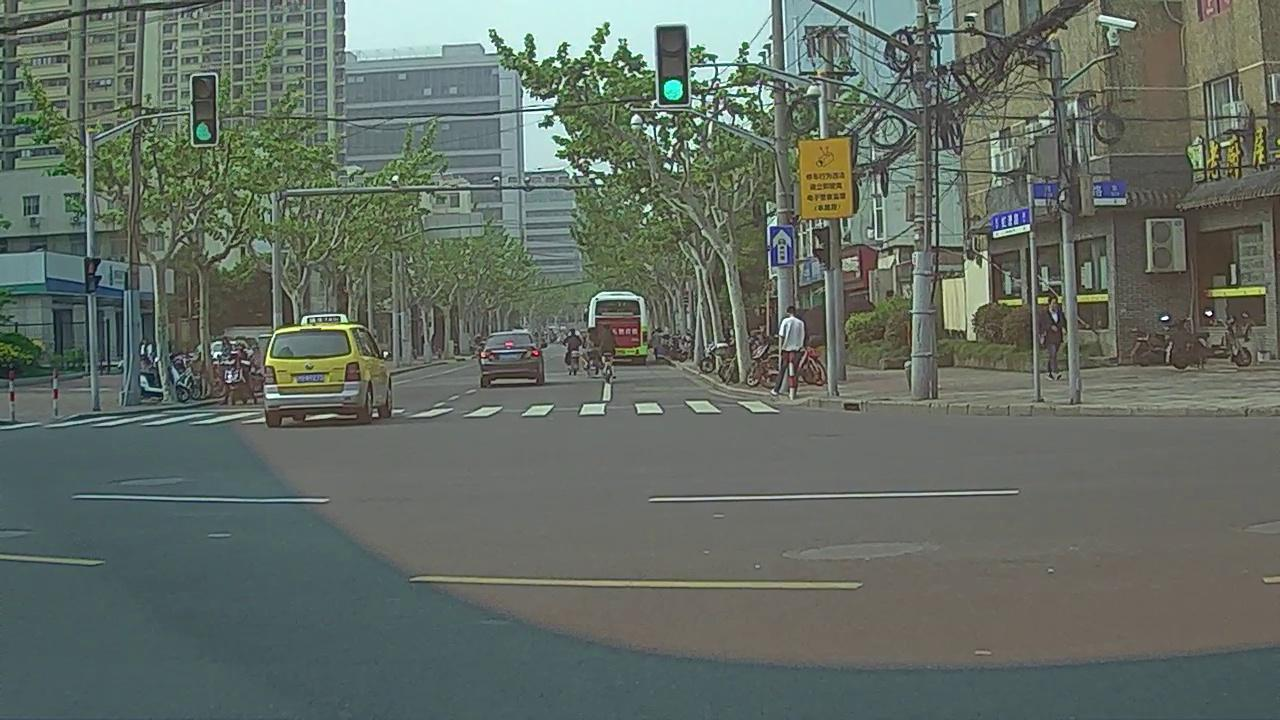traffic_light: (658, 27, 687, 104), (190, 75, 217, 144)
